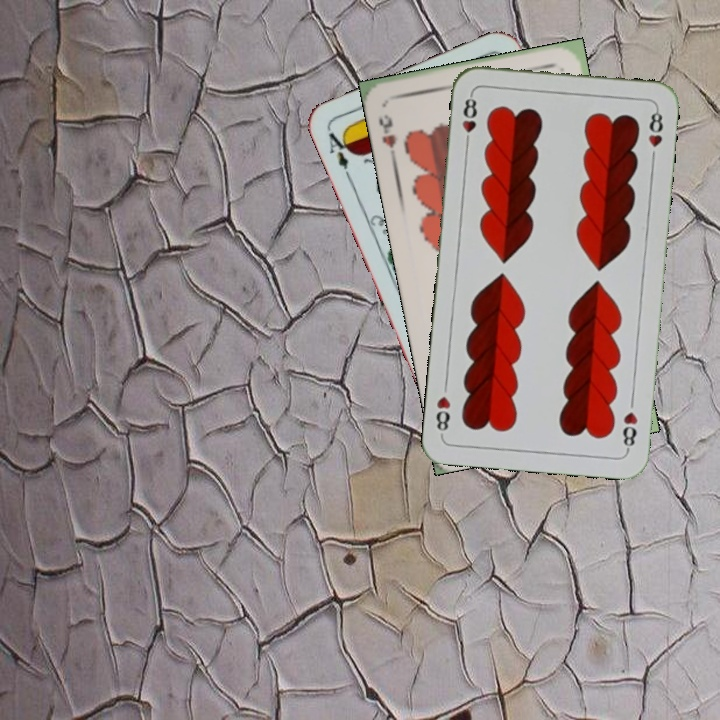EA: (324, 126, 355, 183)
H8: (458, 90, 480, 149), (619, 407, 640, 454)
H9: (374, 110, 399, 161)
